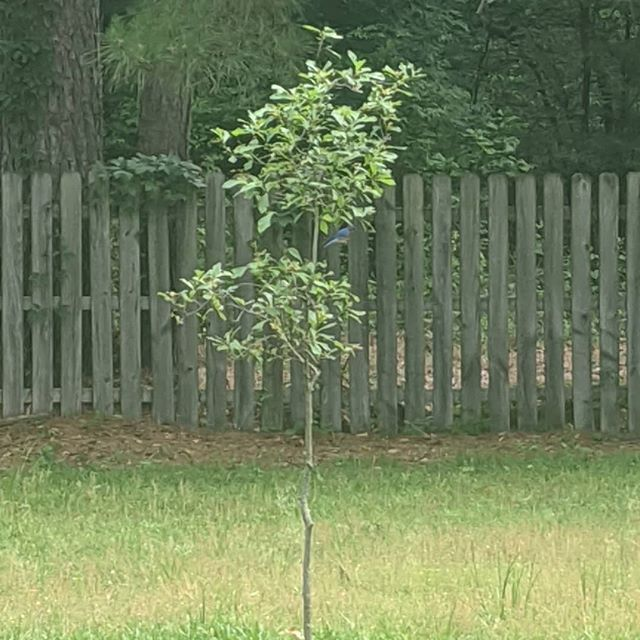grass: (13, 440, 640, 640)
tree: (181, 52, 409, 640)
